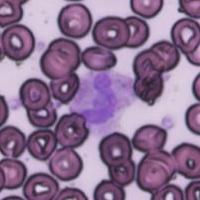N: (70, 69, 136, 136)
